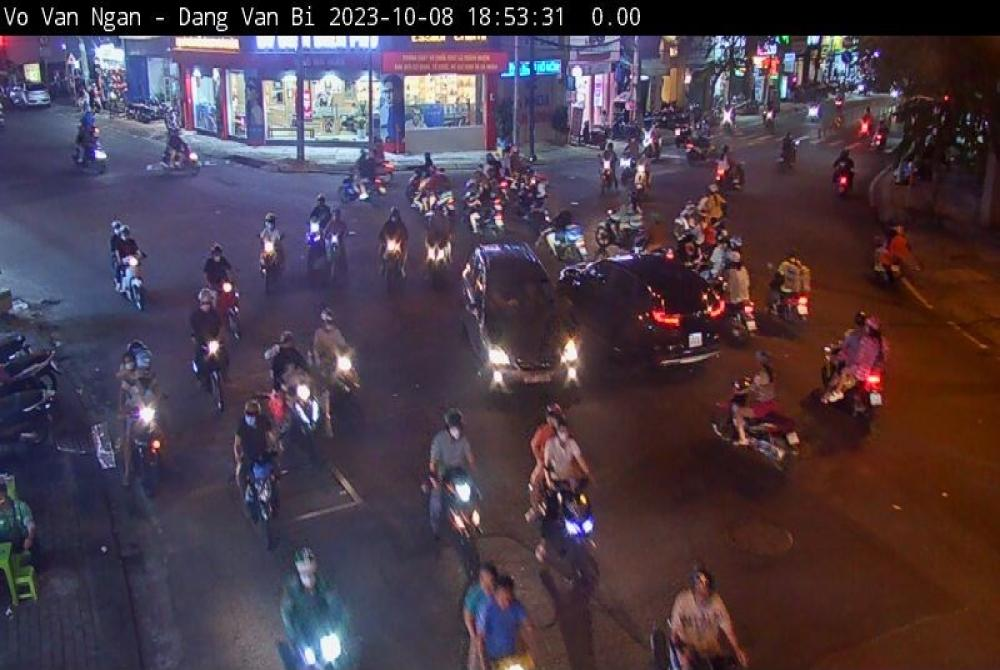car: (567, 242, 732, 372), (450, 235, 562, 408)
